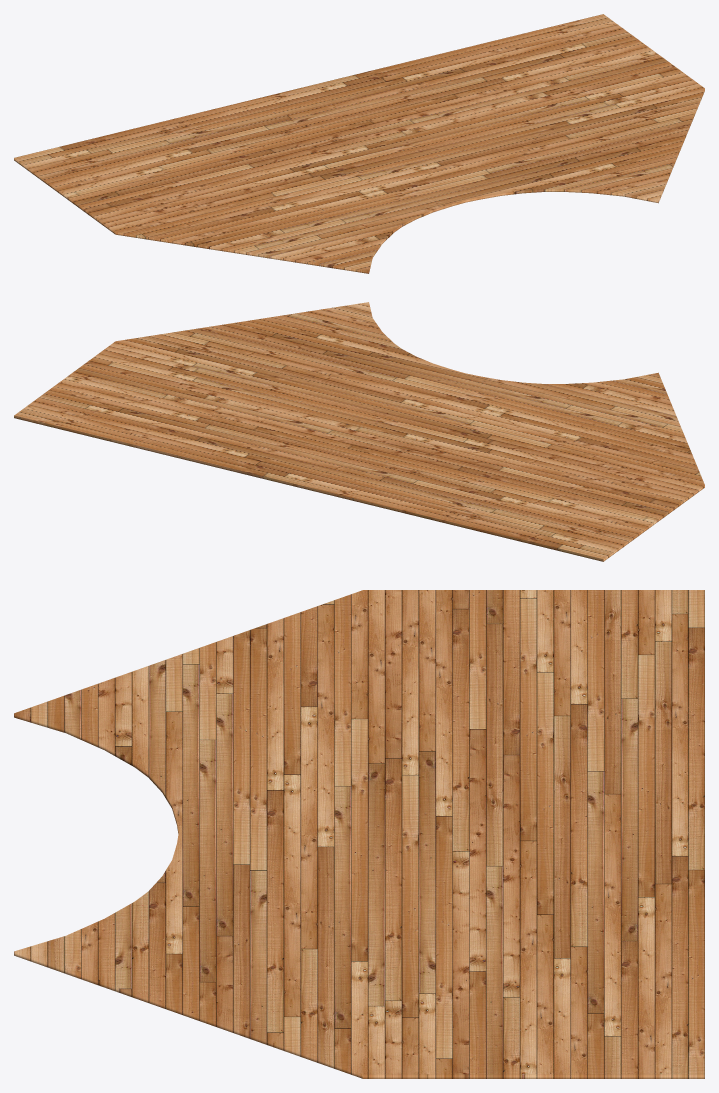
Rendered from buildingv3_bottomfloor.fbx.
The picture shows the model from 3 angles, top to bottom: view 1: azimuth 30°, elevation 25°; view 2: azimuth 150°, elevation 25°; view 3: azimuth 270°, elevation 25°; orthographic projection. The views are drawn at different scales.
Visible parts, largest first — view 1: polySurface13; view 2: polySurface13; view 3: polySurface13.
Boxes of the visible parts, x1=… form: polySurface13: x1=14, y1=14, x2=704, y2=273; polySurface13: x1=14, y1=302, x2=704, y2=561; polySurface13: x1=14, y1=590, x2=704, y2=1078.
Bounding box in the file's own units: 207 × 0.8347 × 124.
